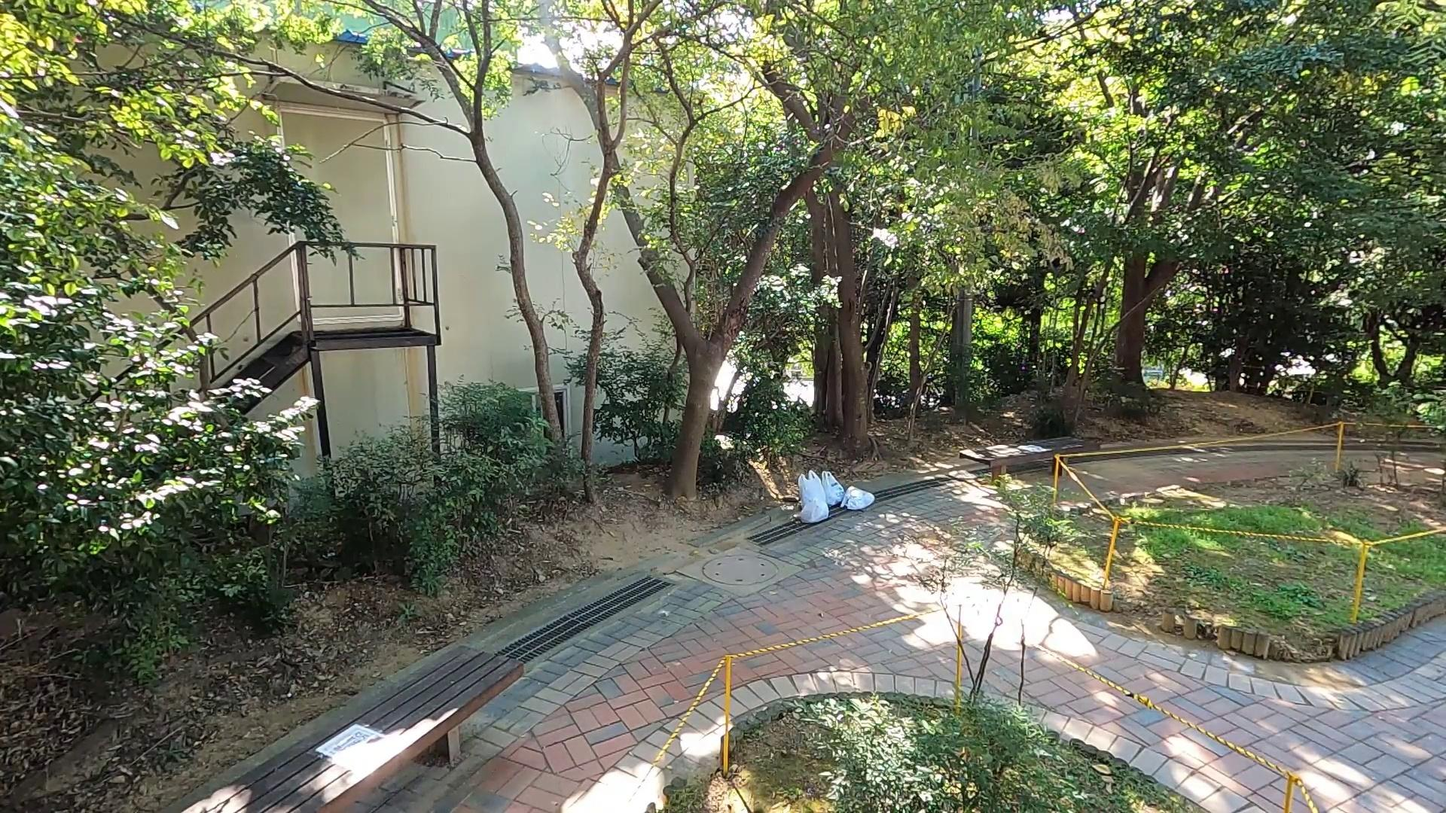trash: (791, 497, 836, 525), (838, 482, 878, 513), (799, 469, 828, 508), (821, 469, 846, 508)
